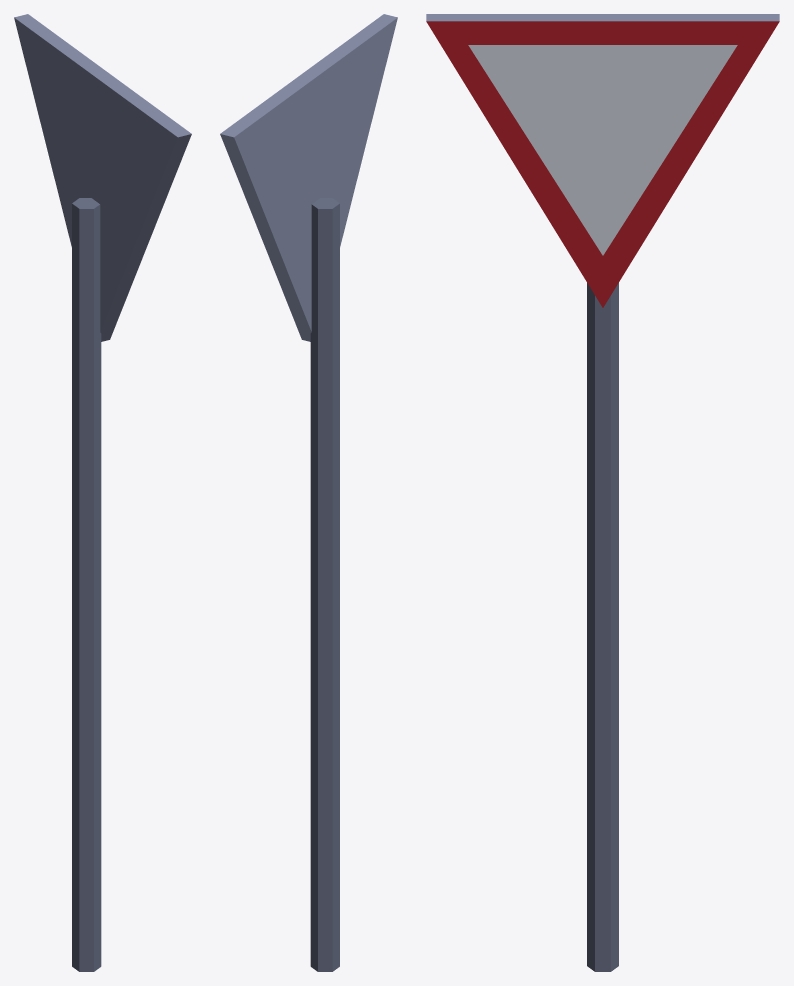
The model's file is PrioritySign02.fbx.
The picture shows the model from 3 angles, left to right: view 1: azimuth 30°, elevation 25°; view 2: azimuth 150°, elevation 25°; view 3: azimuth 270°, elevation 25°; orthographic projection. The views are drawn at different scales.
Parts seen in each view (by area): view 1: Cube, Cylinder; view 2: Cube, Cylinder; view 3: Cube, Cylinder.
Part boxes in pixels (bbox=[...]): Cube: bbox=[14, 14, 191, 341]; Cylinder: bbox=[72, 198, 101, 971]; Cube: bbox=[220, 14, 397, 341]; Cylinder: bbox=[310, 198, 339, 971]; Cube: bbox=[426, 14, 779, 307]; Cylinder: bbox=[587, 283, 618, 971].
Bounding box in the file's own units: 16.48 × 407 × 136.
